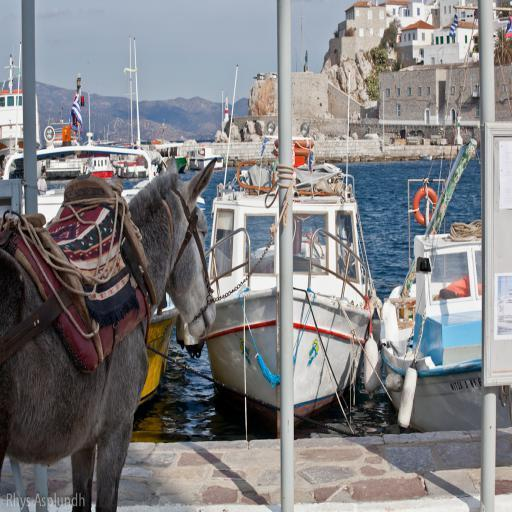horse: (0, 154, 220, 512)
